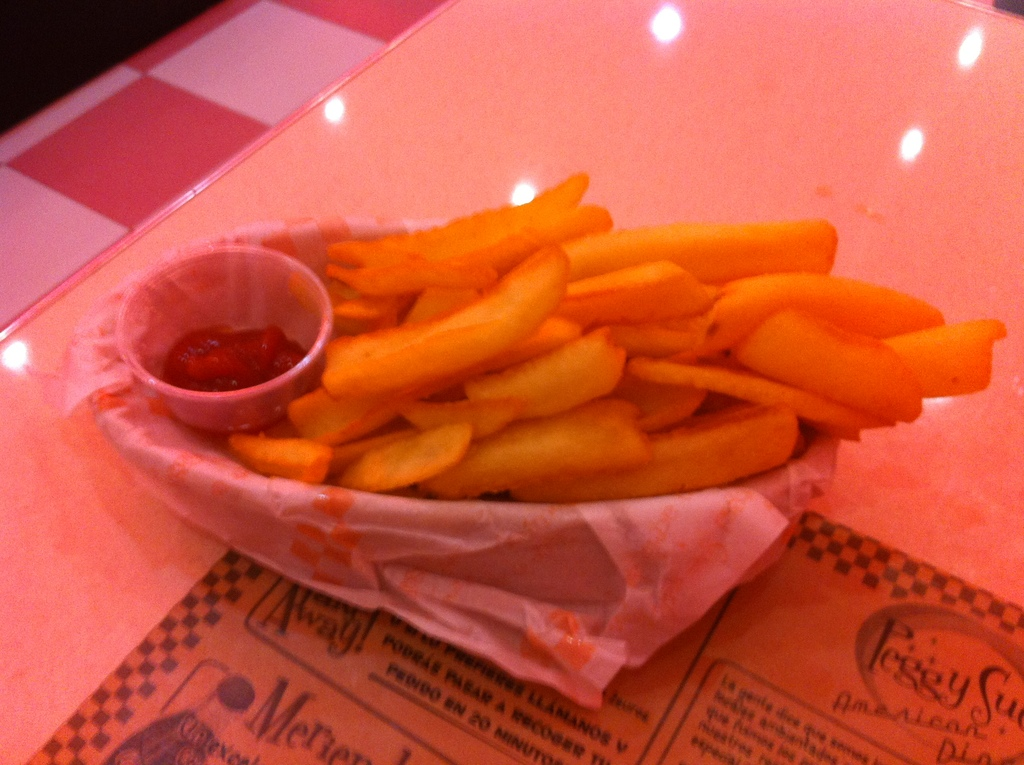French fries: (255, 185, 872, 524)
